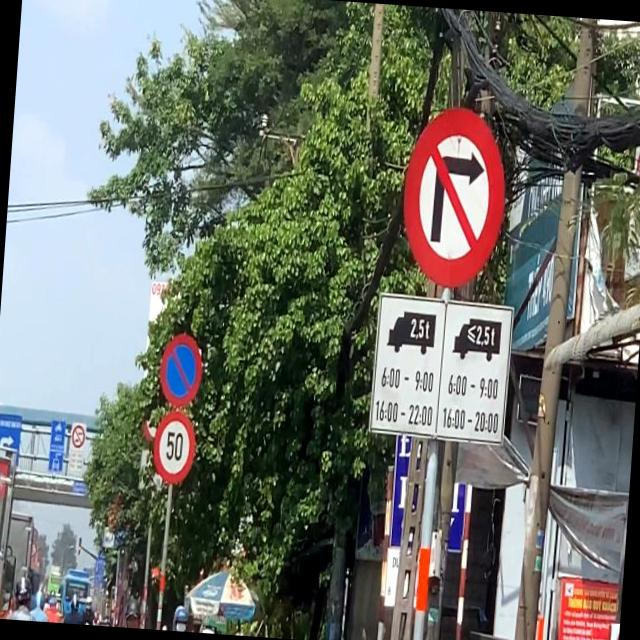P-123b: (398, 105, 508, 287)
P-127: (151, 407, 195, 484)
P-131a: (155, 330, 204, 408)
